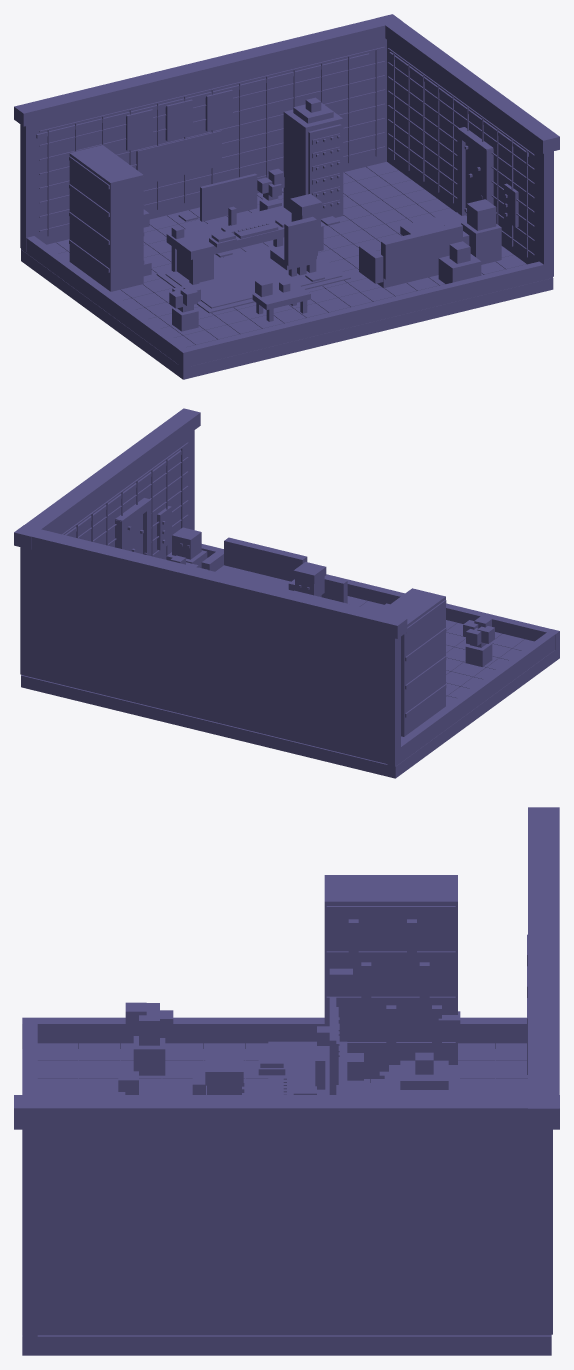
The model's file is developer-room-prototype.glb.
3 renders of one model, top to bottom at view 1: azimuth 30°, elevation 25°; view 2: azimuth 150°, elevation 25°; view 3: azimuth 270°, elevation 25°, orthographic. The views are drawn at different scales.
Visible parts, largest first — view 1: back_wall, right_wall, skills_bookshelf_body, back_top_cap, front_low_trim, base_platform, right_top_cap, violet_rug_inner, left_low_trim, city_window_frame, backend_server_rack_body, sofa_back (+29 smaller); view 2: back_wall, back_top_cap, base_platform, right_wall, skills_bookshelf_body, right_top_cap, left_low_trim, front_low_trim, sofa_back, right_voxel_cube, sofa_base, neon_right_strip (+5 smaller); view 3: right_wall, right_top_cap, skills_bookshelf_body, base_platform, back_top_cap, left_low_trim, projects_desk_top, front_low_trim, backend_server_top, about_avatar_hair, plant_left_pot, backend_server_rack_body (+14 smaller).
Part boxes in pixels (x1,y1,x2,y2): back_wall: (20,38,386,251); right_wall: (387,40,553,278); skills_bookshelf_body: (69,145,143,291); back_top_cap: (14,14,401,126); front_low_trim: (178,261,552,368); base_platform: (21,249,553,379); right_top_cap: (376,14,559,153); violet_rug_inner: (165,245,342,308); left_low_trim: (21,236,191,368); city_window_frame: (136,130,221,184); backend_server_rack_body: (283,103,343,218); sofa_back: (381,222,462,279); back_wall: (20,547,400,765); back_top_cap: (18,525,407,638); base_platform: (21,647,559,778); right_wall: (20,430,194,673); skills_bookshelf_body: (380,588,445,736); right_top_cap: (14,408,200,549); left_low_trim: (387,629,556,767); front_low_trim: (201,544,559,649); sofa_back: (224,537,307,581); right_voxel_cube: (172,527,201,559); sofa_base: (215,565,290,589); neon_right_strip: (65,450,181,536); right_wall: (22,1129,551,1335); right_top_cap: (14,1095,559,1129); skills_bookshelf_body: (324,875,457,1082); base_platform: (22,1049,551,1355); back_top_cap: (528,807,559,1129); left_low_trim: (22,1017,526,1048); projects_desk_top: (268,1041,347,1094); front_low_trim: (22,1017,37,1337); backend_server_top: (400,1060,448,1089); about_avatar_hair: (205,1055,243,1085); plant_left_pot: (133,1036,165,1075); backend_server_rack_body: (389,1065,459,1094).
Size of the model in its own units: 8.55 by 3.31 by 6.55.
